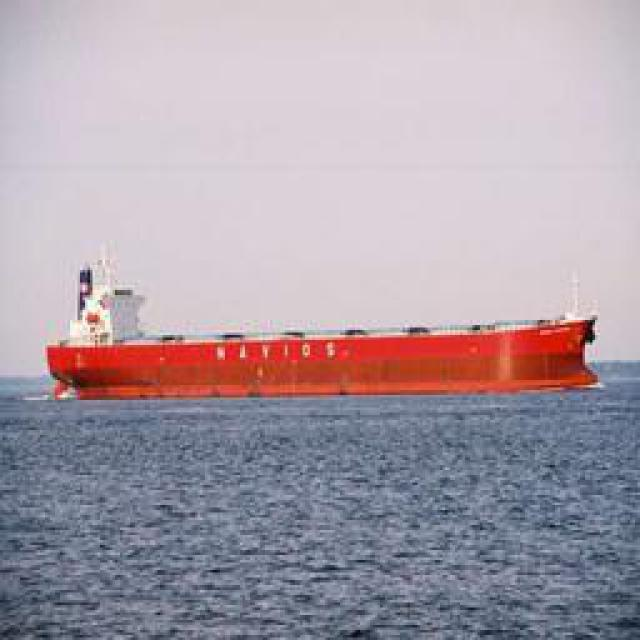Ship: (38, 291, 603, 394)
